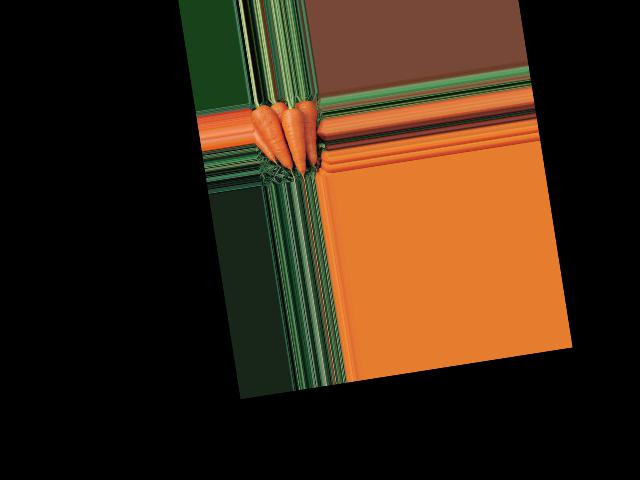carrot: (252, 103, 295, 176)
